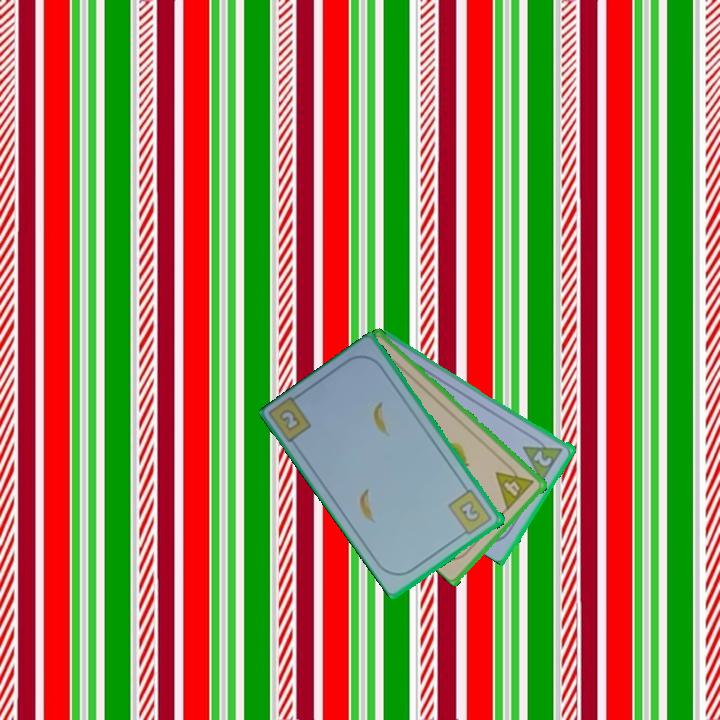2b: (445, 486, 495, 540), (276, 405, 304, 434)
2p: (519, 431, 566, 483)
4p: (492, 459, 537, 512)
